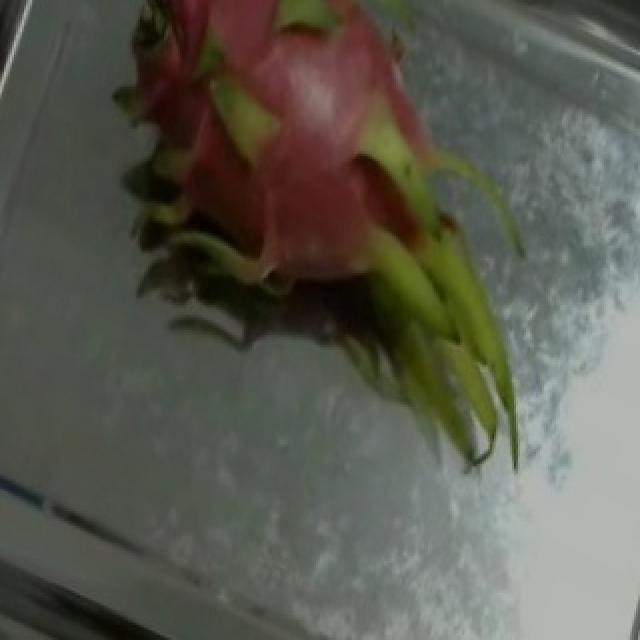fruit: (142, 0, 590, 417)
